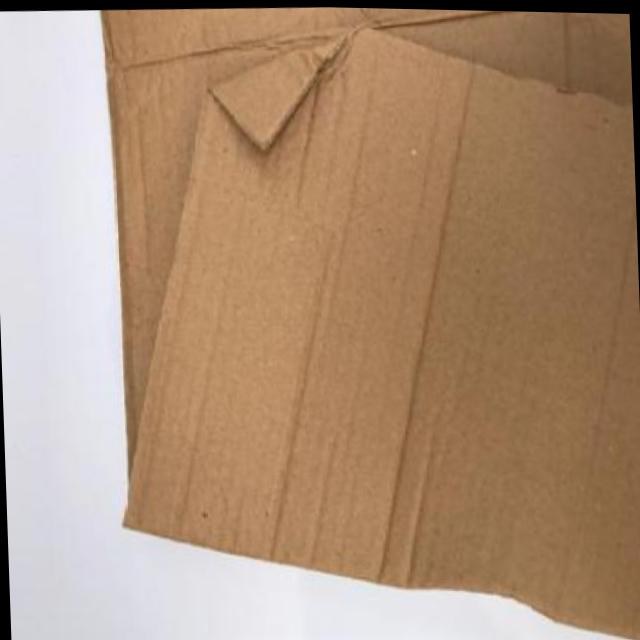box: (90, 2, 640, 640)
